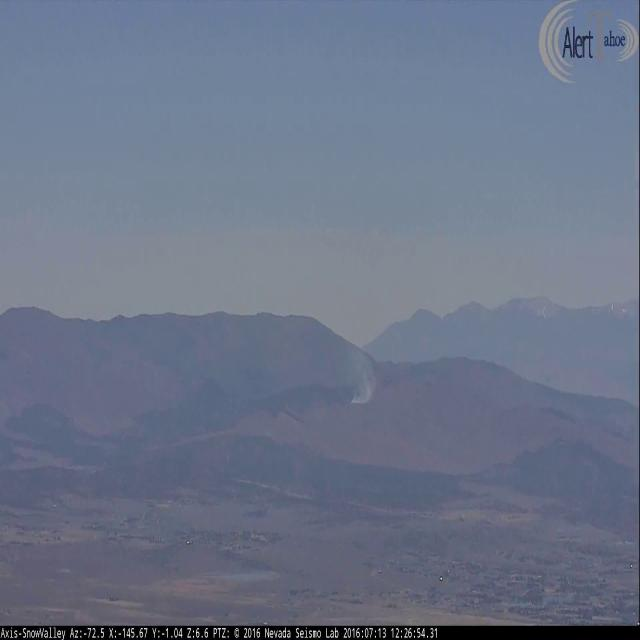smoke: (346, 344, 377, 403)
